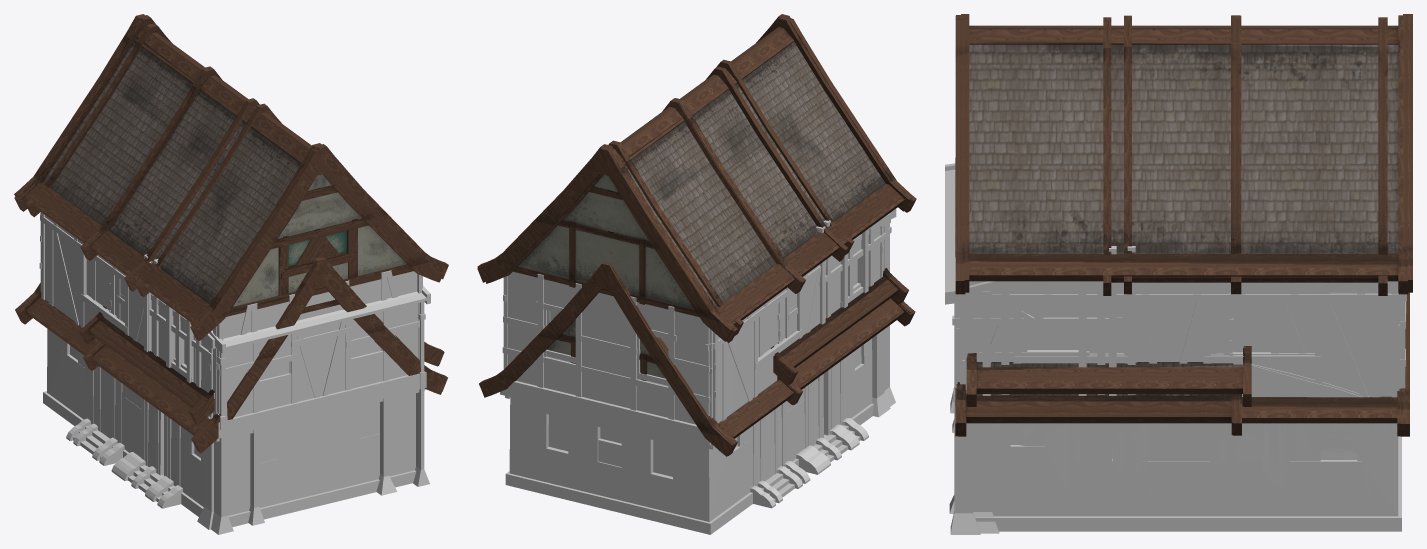
Rendered from city.fbx.
3 views of the same model, side by side, from view 1: azimuth 30°, elevation 25°; view 2: azimuth 150°, elevation 25°; view 3: azimuth 270°, elevation 25° (orthographic). The views are drawn at different scales.
Visible parts, largest first — view 1: Also_S_02.007, Also_S_02.009, Also_S_01.009, Also_S_01.008, Also_S_01.011, Also_L_01.010, Also_L_02.010, Also_M_01.006, Also_M_02.004, Also_S_02.010, Also_L_02.009, Also_L_01.009 (+1 smaller); view 2: Also_L_01.010, Also_L_01.011, Also_S_02.009, Also_S_01.008, Also_L_01.009, Also_M_01.006, Also_S_02.007, Also_L_02.010, Also_M_02.004, Also_S_01.011, Also_S_02.010, Also_S_02.008 (+2 smaller); view 3: Also_L_02.009, Also_L_02.008, Also_S_02.007, Also_M_02.004, Also_S_02.010, Also_S_01.008, Also_L_01.011, Also_M_01.006, Also_L_02.010, Also_S_02.008, Also_L_01.009, Also_L_01.010 (+2 smaller).
Boxes of the visible parts, x1,y1,x2,y2 form: Also_S_02.007: (25,23,430,534); Also_S_02.009: (80,67,438,367); Also_S_01.009: (85,67,445,441); Also_S_01.008: (14,19,259,529); Also_S_01.011: (83,259,446,526); Also_L_01.010: (14,14,347,325); Also_L_02.010: (16,261,446,516); Also_M_01.006: (47,236,443,516); Also_M_02.004: (51,236,444,501); Also_S_02.010: (115,257,447,515); Also_L_02.009: (20,15,448,326); Also_L_01.009: (14,14,320,416); Also_L_01.010: (500,16,912,445); Also_L_01.011: (479,262,911,534); Also_S_02.009: (672,18,916,343); Also_S_01.008: (486,66,890,531); Also_L_01.009: (477,17,908,445); Also_M_01.006: (505,268,908,526); Also_S_02.007: (608,59,896,527); Also_L_02.010: (485,262,915,534); Also_M_02.004: (505,273,903,518); Also_S_01.011: (788,298,913,458); Also_S_02.010: (777,304,909,467); Also_S_02.008: (662,98,912,336); Also_L_02.009: (956,15,1407,366); Also_L_02.008: (956,15,1407,397); Also_S_02.007: (945,17,1387,534); Also_M_02.004: (967,346,1396,531); Also_S_02.010: (957,382,1241,531); Also_S_01.008: (967,15,1408,533); Also_L_01.011: (958,292,1409,531); Also_M_01.006: (966,348,1390,531); Also_L_02.010: (955,158,1400,531); Also_S_02.008: (957,18,1241,382); Also_L_01.009: (962,14,1412,292); Also_L_01.010: (961,14,1412,388).
Size of the model in its own units: 132 by 178 by 166.
